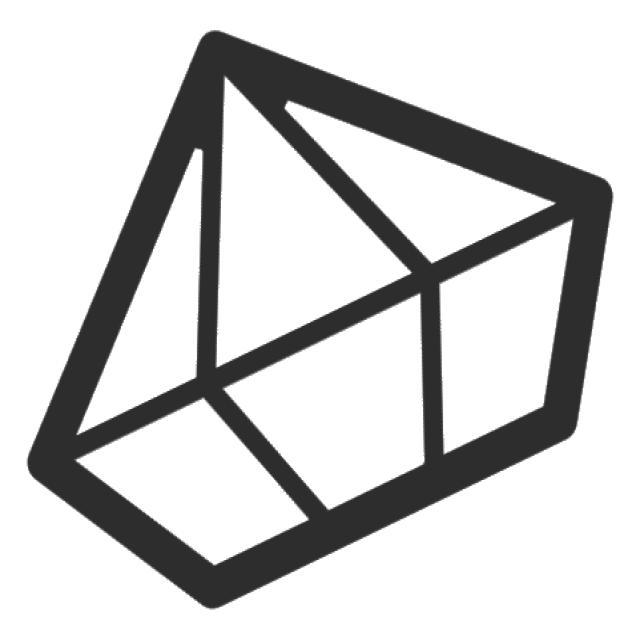diamond: (14, 19, 625, 626)
